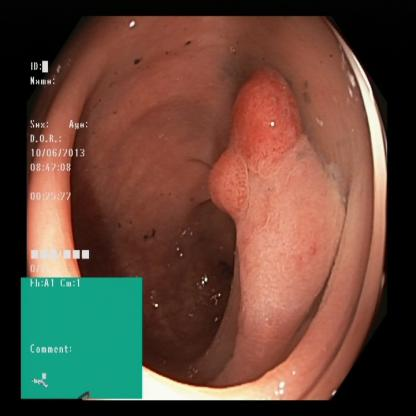Labels: (26, 59, 104, 275), (20, 272, 146, 397)
Polyps: (226, 69, 301, 170), (198, 154, 266, 218)
